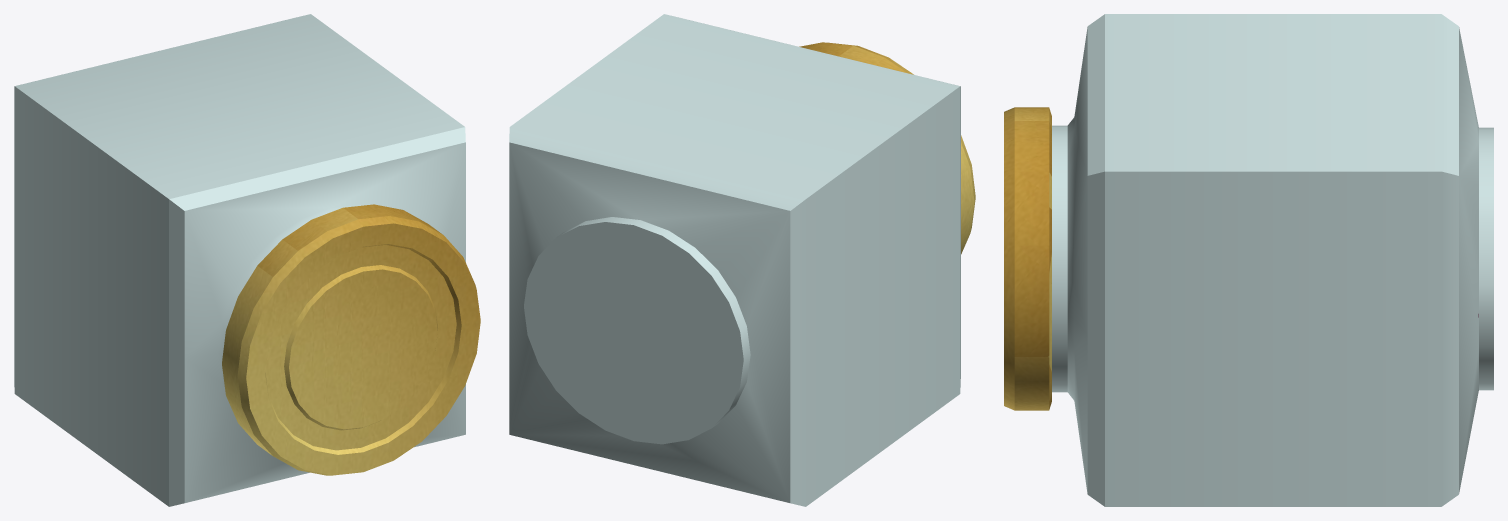
File: Grape+Jelly+Jar.glb
3 views of the same model, side by side, from view 1: azimuth 30°, elevation 25°; view 2: azimuth 150°, elevation 25°; view 3: azimuth 270°, elevation 25° (orthographic). The views are drawn at different scales.
Parts seen in each view (by area): view 1: group_4, ID87, ID31, group_1; view 2: group_4, ID87, ID79, group_1; view 3: ID87, group_4, group_1, ID79.
Part boxes in pixels (<box>): group_4: <box>14,14,465,502</box>; ID87: <box>14,86,184,506</box>; ID31: <box>265,244,461,454</box>; group_1: <box>222,204,480,475</box>; group_4: <box>509,14,959,506</box>; ID87: <box>806,86,960,506</box>; ID79: <box>524,222,750,444</box>; group_1: <box>799,42,975,254</box>; ID87: <box>1087,171,1441,506</box>; group_4: <box>1052,14,1493,506</box>; group_1: <box>1004,107,1051,410</box>; ID79: <box>1479,186,1493,368</box>.
Bounding box in the file's own units: 0.1018 × 0.1016 × 0.1338.
11 materials, 4 textured.
